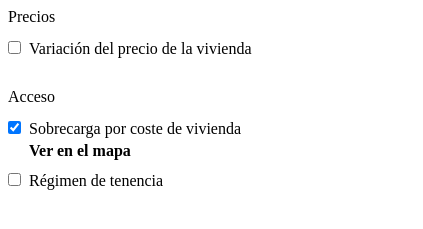
Test case: CatalogComponent › says so when an indicator cannot be loaded, and leaves it unchecked
This screenshot has width=423, height=229.
Click the checkbox labelled "Régimen de tenencia" at (14, 180), box 8,173 -> 21,186
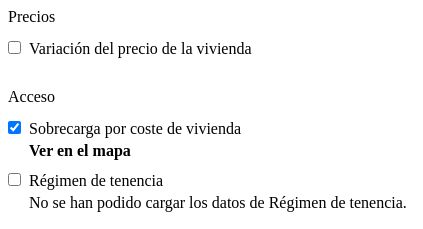
Expected: the message "No se han podido cargar los datos de Régimen de tenencia." is shown, 29,194 -> 407,211
